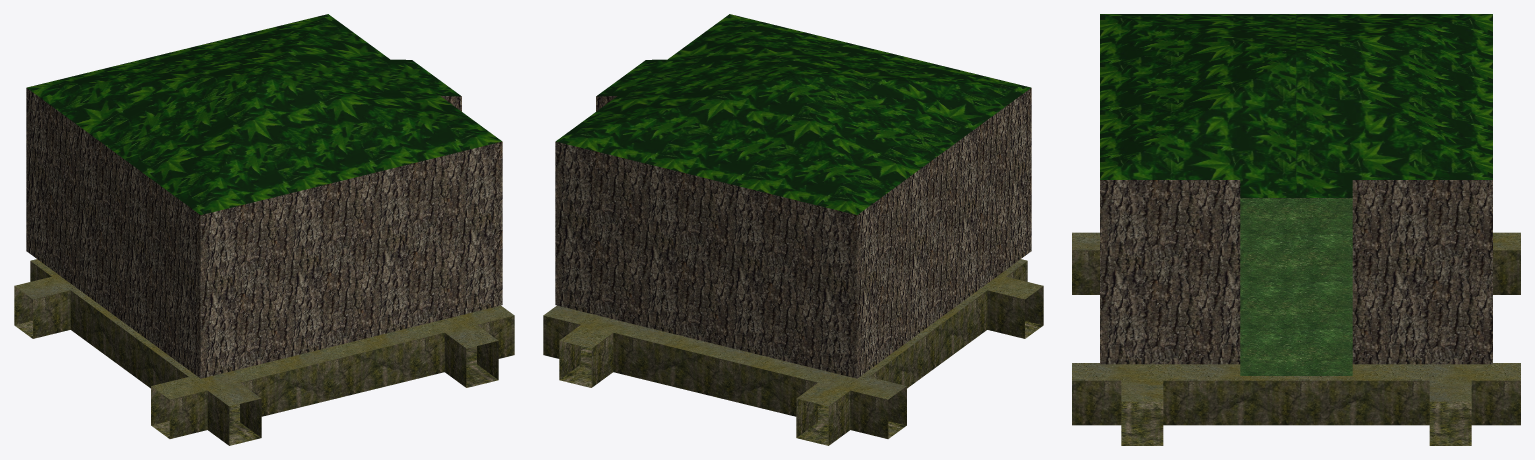
File: woods7cell.gltf
3 renders of one model, left to right at view 1: azimuth 30°, elevation 25°; view 2: azimuth 150°, elevation 25°; view 3: azimuth 270°, elevation 25°, orthographic. The views are drawn at different scales.
Parts seen in each view (by area): view 1: woods7cell; view 2: woods7cell; view 3: woods7cell.
Boxes of the visible parts, left/top/right/bottom form: woods7cell: left=14, top=14, right=514, bottom=445; woods7cell: left=543, top=14, right=1043, bottom=445; woods7cell: left=1072, top=14, right=1520, bottom=445.
Bounding box in the file's own units: 32 × 25.5 × 32.
Materials: 10 (10 with a texture image).
